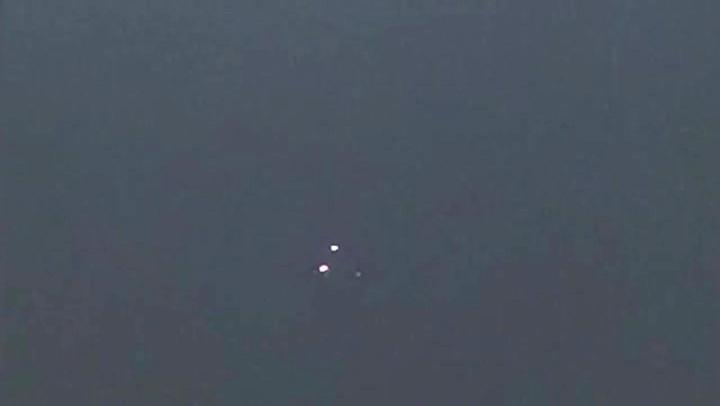Plane: (293, 232, 363, 291)
